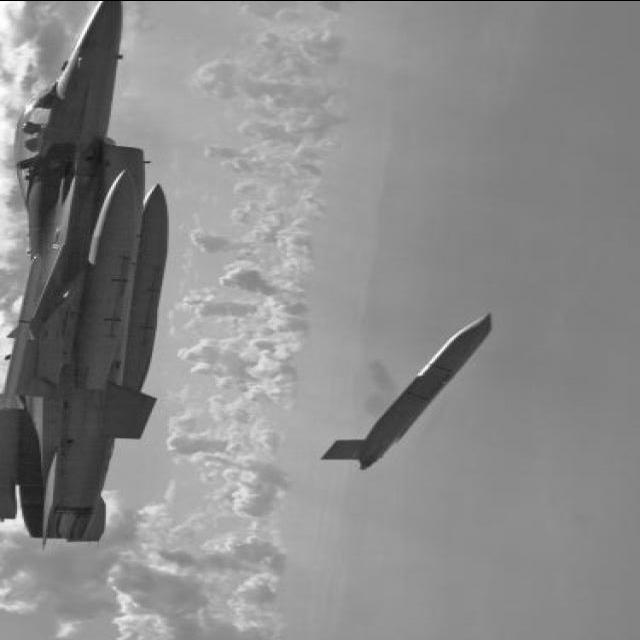missile: (314, 304, 500, 474)
